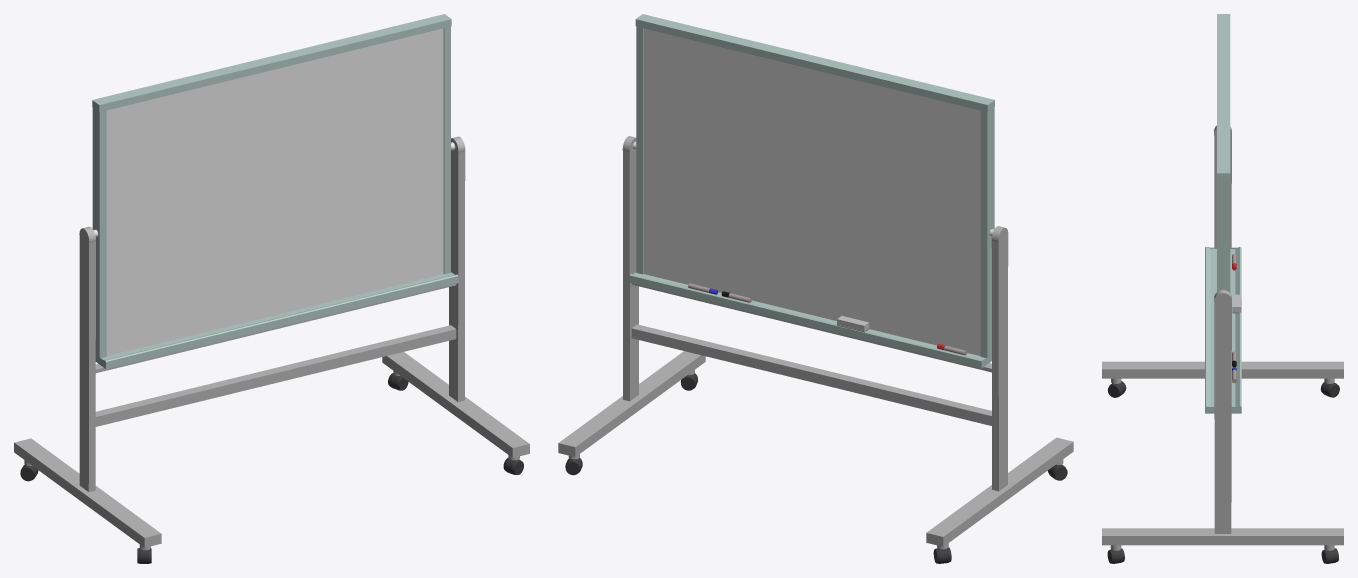
The model's file is White_board.fbx.
3 views of the same model, side by side, from view 1: azimuth 30°, elevation 25°; view 2: azimuth 150°, elevation 25°; view 3: azimuth 270°, elevation 25° (orthographic). The views are drawn at different scales.
Parts seen in each view (by area): view 1: 立方体, 立方体.005, 立方体.006, 立方体.001, 円柱.005, 円柱.004, 立方体.002, 立方体.008, 立方体.007, 立方体.004, 立方体.003; view 2: 立方体, 立方体.005, 立方体.006, 円柱.005, 立方体.001, 円柱.004, 立方体.002, 立方体.008, 立方体.007, 立方体.004, 立方体.003; view 3: 円柱.004, 立方体.008, 立方体.002, 立方体.001, 立方体.006, 立方体.004, 円柱.005.
Part boxes in pixels (bbox=[...]): 立方体: bbox=[106, 28, 443, 355]; 立方体.005: bbox=[95, 325, 456, 426]; 立方体.006: bbox=[92, 14, 451, 112]; 立方体.001: bbox=[95, 271, 458, 368]; 円柱.005: bbox=[79, 226, 95, 491]; 円柱.004: bbox=[449, 136, 465, 401]; 立方体.002: bbox=[14, 438, 161, 547]; 立方体.008: bbox=[382, 352, 529, 457]; 立方体.007: bbox=[92, 105, 106, 357]; 立方体.004: bbox=[443, 21, 450, 274]; 立方体.003: bbox=[95, 284, 456, 373]; 立方体: bbox=[643, 28, 980, 355]; 立方体.005: bbox=[631, 324, 991, 425]; 立方体.006: bbox=[635, 14, 994, 112]; 円柱.005: bbox=[991, 226, 1008, 491]; 立方体.001: bbox=[629, 271, 991, 368]; 円柱.004: bbox=[622, 136, 638, 401]; 立方体.002: bbox=[926, 437, 1073, 546]; 立方体.008: bbox=[558, 351, 705, 456]; 立方体.007: bbox=[980, 107, 994, 357]; 立方体.004: bbox=[636, 24, 643, 274]; 立方体.003: bbox=[631, 283, 991, 372]; 円柱.004: bbox=[1214, 290, 1231, 533]; 立方体.008: bbox=[1102, 528, 1343, 545]; 立方体.002: bbox=[1102, 361, 1343, 378]; 立方体.001: bbox=[1205, 247, 1241, 413]; 立方体.006: bbox=[1217, 14, 1230, 179]; 立方体.004: bbox=[1217, 180, 1230, 292]; 円柱.005: bbox=[1214, 125, 1231, 247].
Bounding box in the file's own units: 1129 × 1163 × 660.
